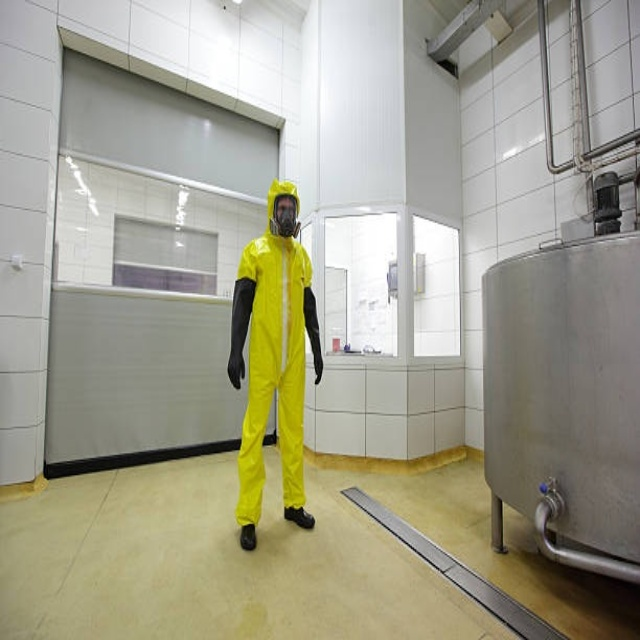Guantes: (227, 273, 255, 395), (302, 282, 330, 387)
Mascara: (275, 198, 297, 237)
